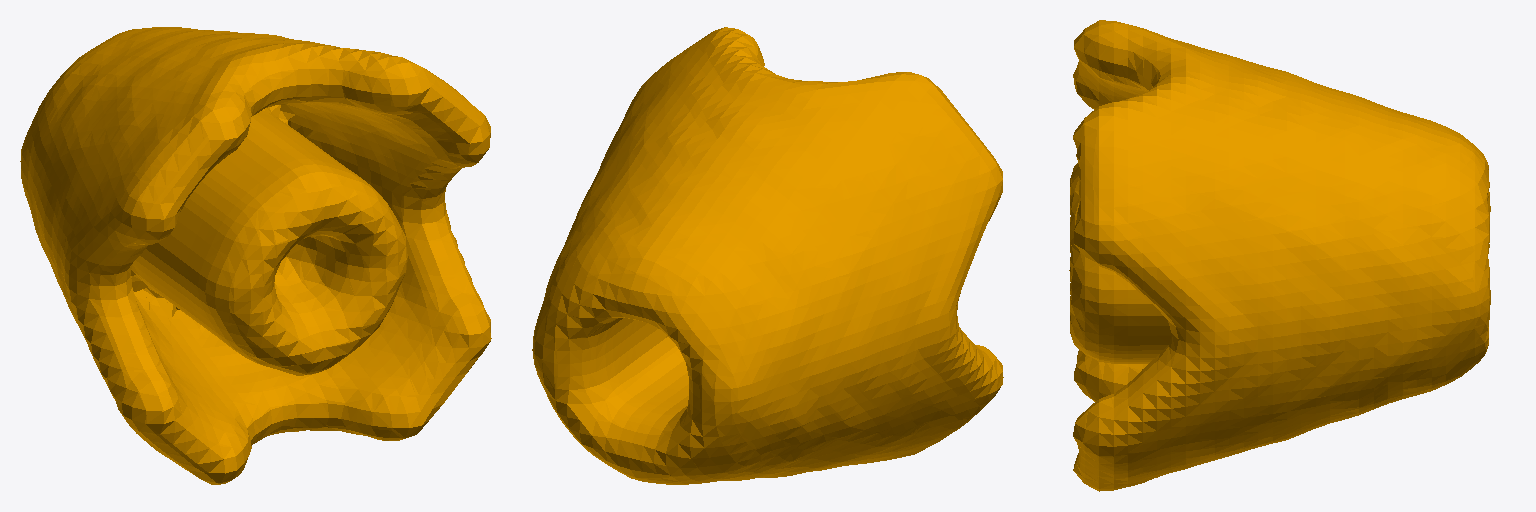
robot.urdf — M12_2:
<?xml version="1.0"?>
<robot name="M12_2">
  <link name="base_link">
    <visual>
      <geometry>
        <mesh filename="../../../../meshes/egad/train/M12_2.obj" />
      </geometry>
    </visual>
  </link>
</robot>

--- Render facts (derived) ---
Views: 3 orthographic renders of the robot side by side, from view 1: azimuth 30°, elevation 25°; view 2: azimuth 150°, elevation 25°; view 3: azimuth 270°, elevation 25°.
Model M12_2 with 1 links and 0 joints (none), rooted at base_link, posed all joints at 0.
Links seen in each view (by area): view 1: base_link; view 2: base_link; view 3: base_link.
Link boxes in pixels (left/top/right/bottom): base_link: left=20, top=27, right=491, bottom=484; base_link: left=532, top=27, right=1003, bottom=484; base_link: left=1069, top=20, right=1490, bottom=491.
Bounding box of the posed robot: 0.0606 × 0.06 × 0.0602 m (x, y, z).
1 mesh visuals loaded from 1 distinct referenced files (1 OBJ).